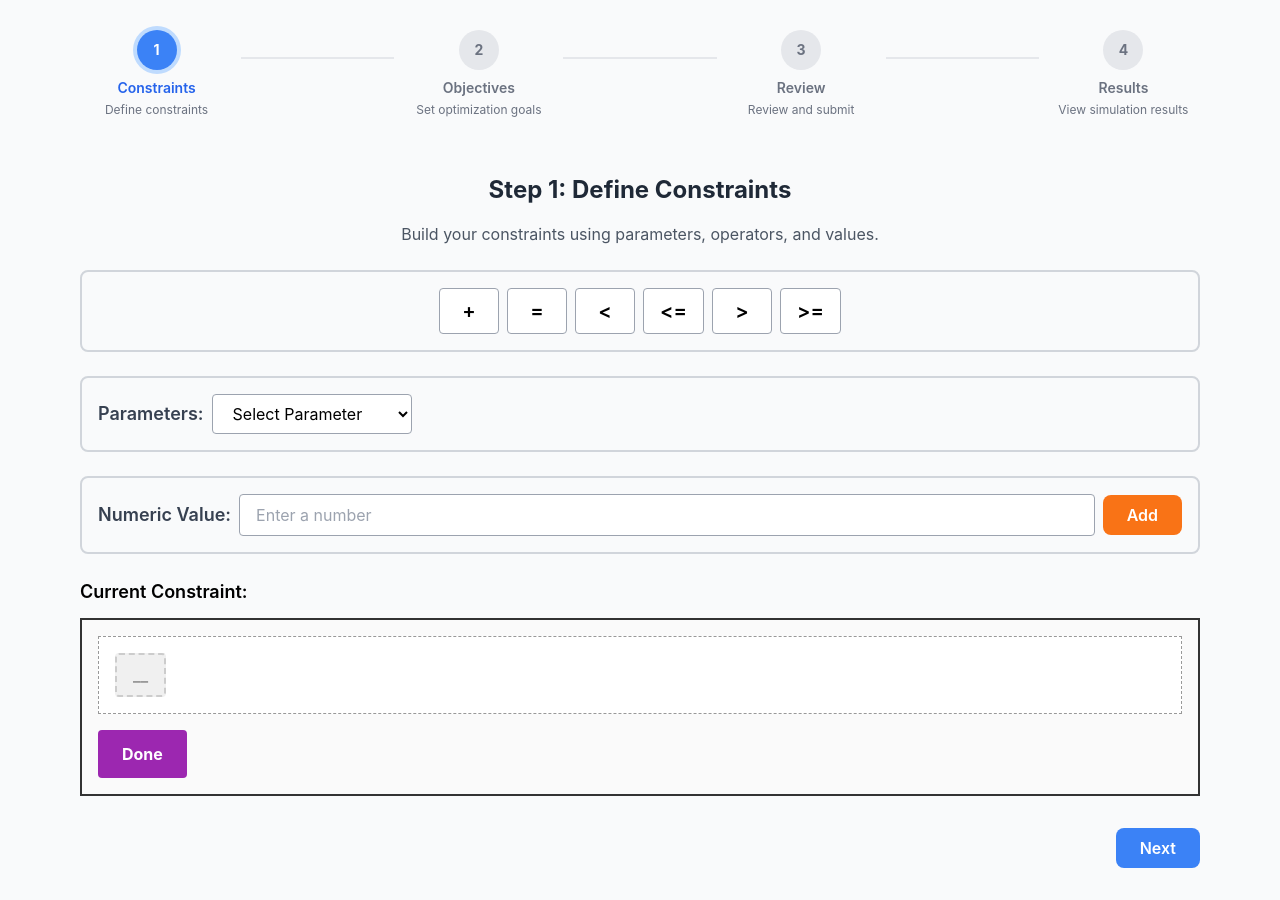
Test case: Multi-Step Form Navigation › navigates to Objectives step when Next clicked
This screenshot has width=1280, height=900.
(page scrolled)
Click the button with test id "next-button" at (1158, 848), box [1116, 828, 1200, 868]
(page scrolled)
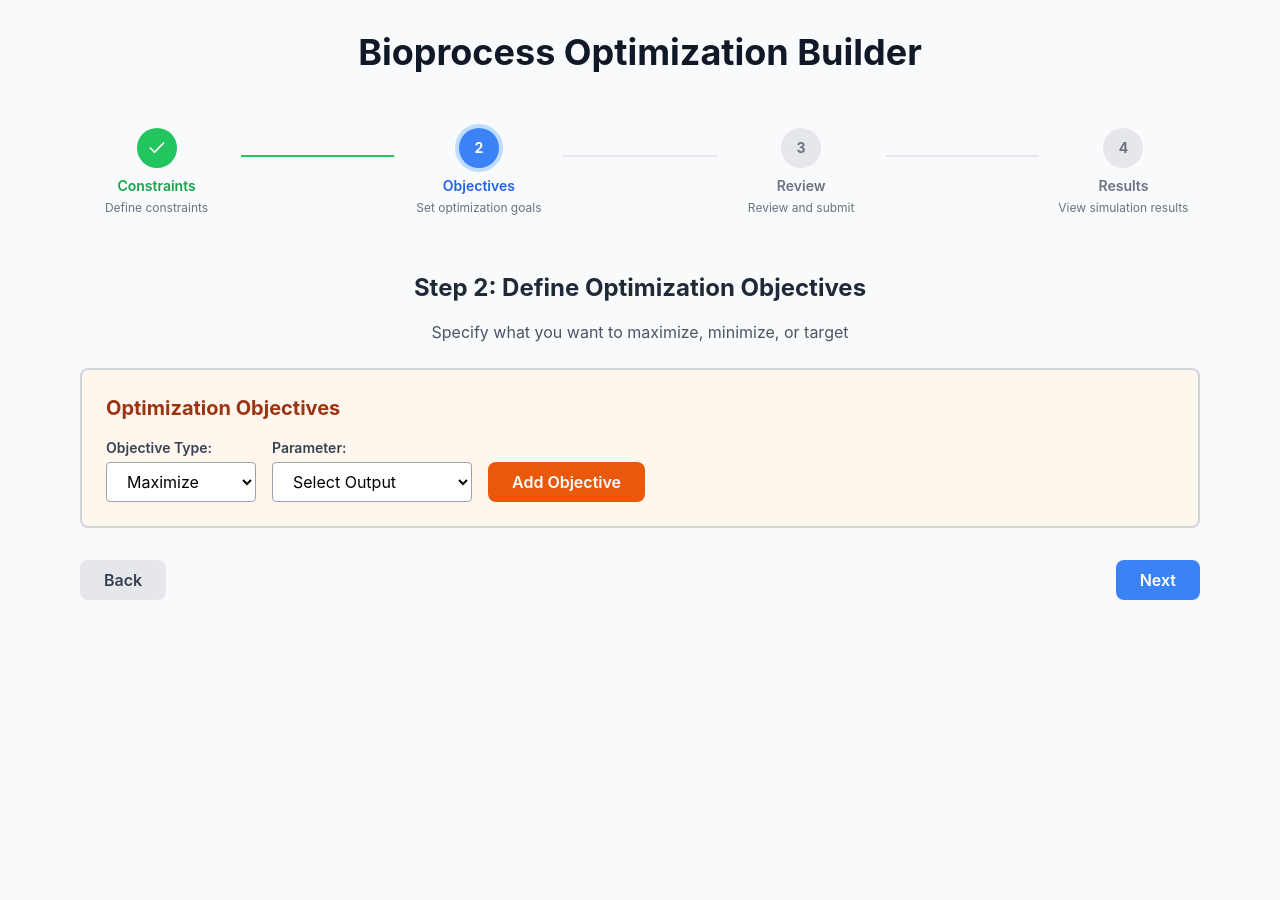
Expected: the heading "Step 2: Define Optimization Objectives" is shown, [414, 273, 866, 302]
